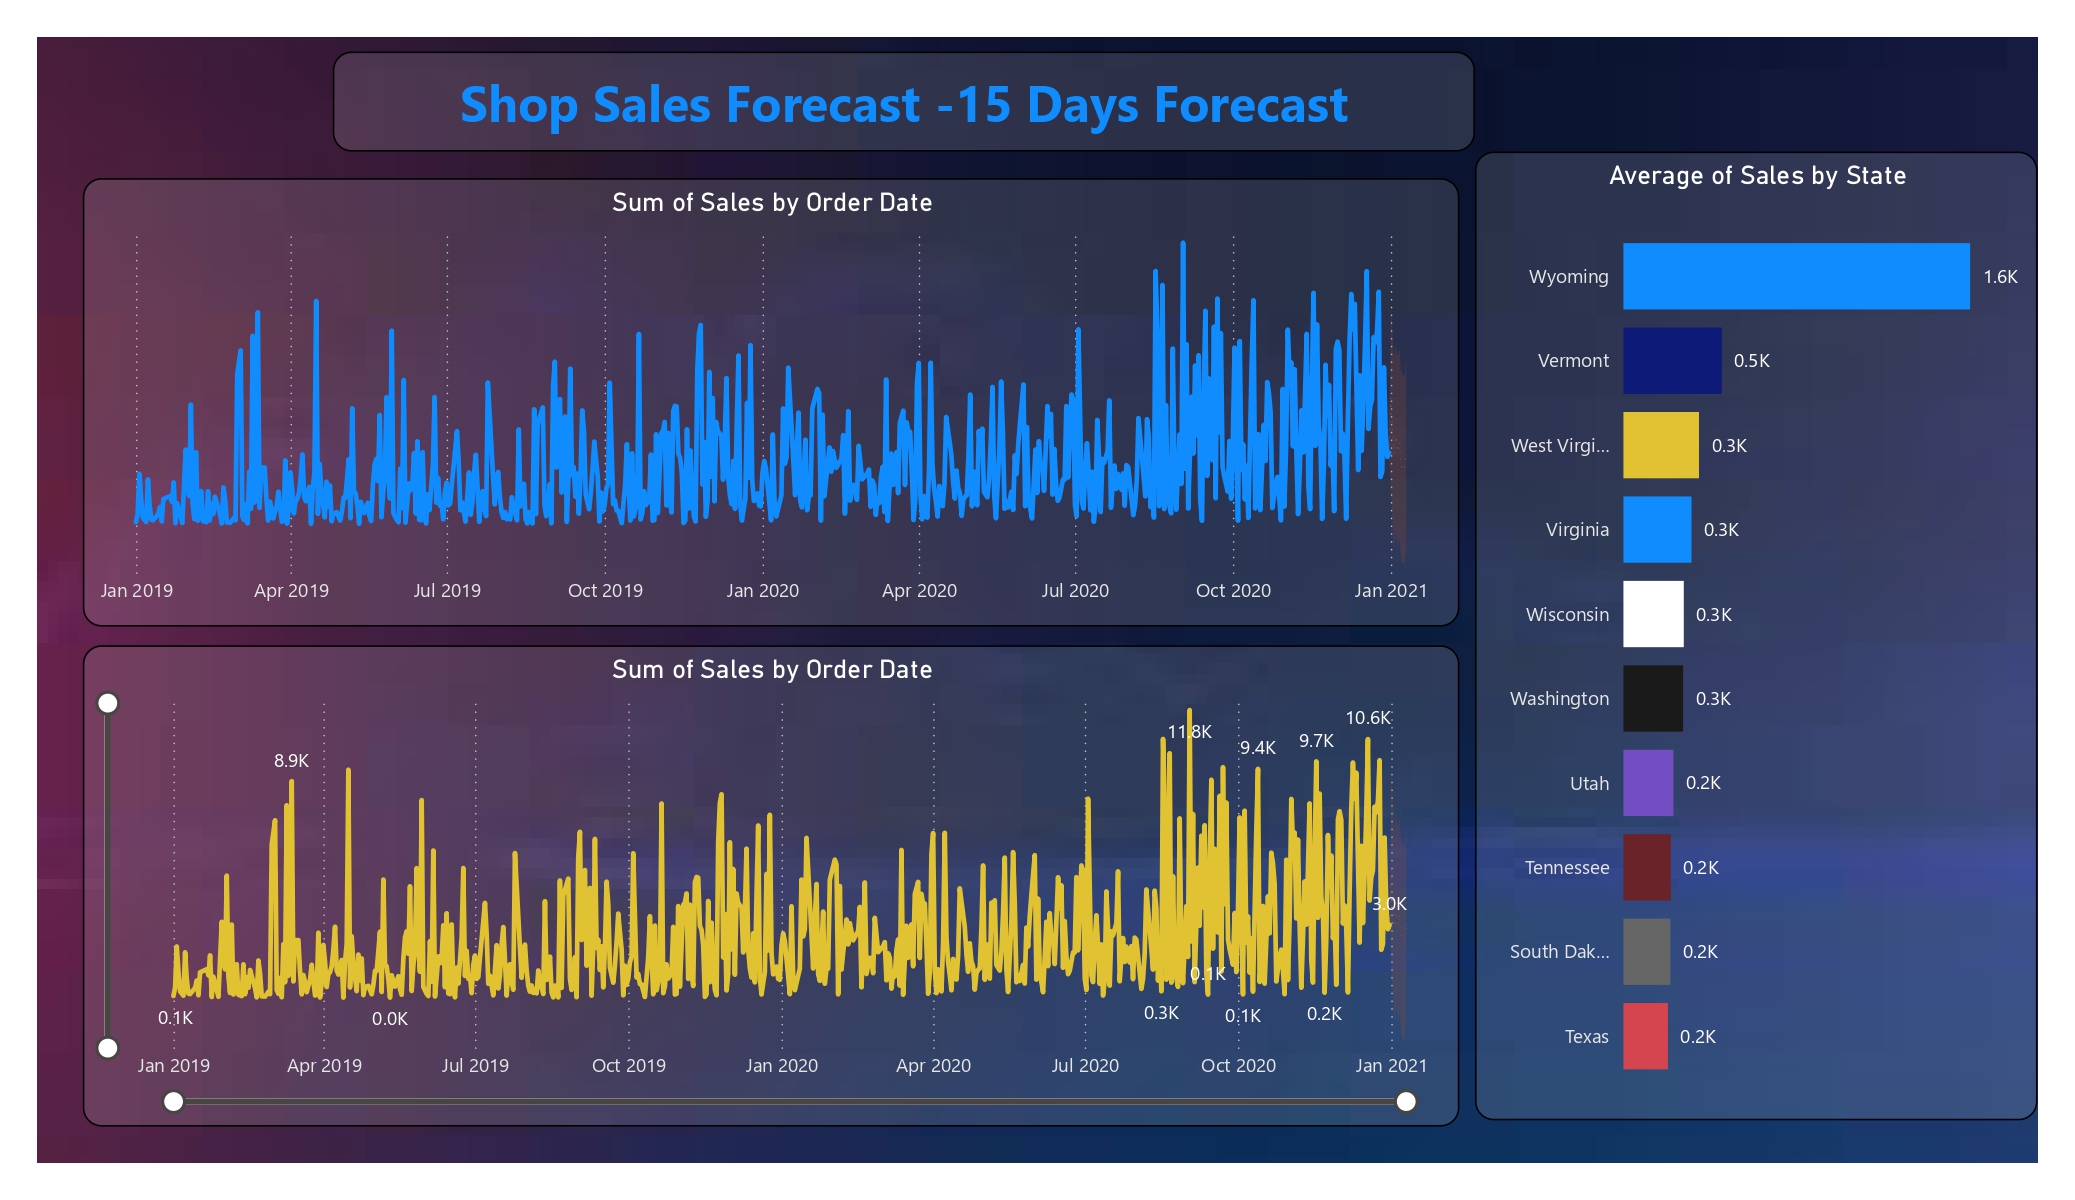

This screenshot's page, from the dashboard's own definition file:
{"tool":"powerbi","page":{"name":"Forecast","canvas":[1280,720],"ordinal":1},"visuals":[{"type":"lineChart","fields":{"Y":["Sum(SuperStore_Sales_Dataset.Sales)"],"Category":["SuperStore_Sales_Dataset.Order Date"]},"box":[28.6,90,881.4,287.1],"z":0},{"type":"lineChart","fields":{"Y":["Sum(SuperStore_Sales_Dataset.Sales)"],"Category":["SuperStore_Sales_Dataset.Order Date"]},"box":[28.6,388.6,881.4,308.6],"z":1000},{"type":"clusteredBarChart","fields":{"Category":["SuperStore_Sales_Dataset.State"],"Y":["Avg(SuperStore_Sales_Dataset.Sales)"]},"box":[920,72.9,360,620],"z":2000},{"type":"textbox","box":[188.6,8.6,731.4,64.3],"z":3000}]}

Visuals, with their boxes on the page's 1280x720 design canvas (x1, y1, x2, y2). These are canvas units, not pixel positions in the 2075x1200 screenshot, which may show the page scaled, cropped or inside an application window:
lineChart - Sum(SuperStore_Sales_Dataset.Sales) x SuperStore_Sales_Dataset.Order Date: (29, 90, 910, 377)
lineChart - Sum(SuperStore_Sales_Dataset.Sales) x SuperStore_Sales_Dataset.Order Date: (29, 389, 910, 697)
clusteredBarChart - SuperStore_Sales_Dataset.State x Avg(SuperStore_Sales_Dataset.Sales): (920, 73, 1280, 693)
textbox: (189, 9, 920, 73)
